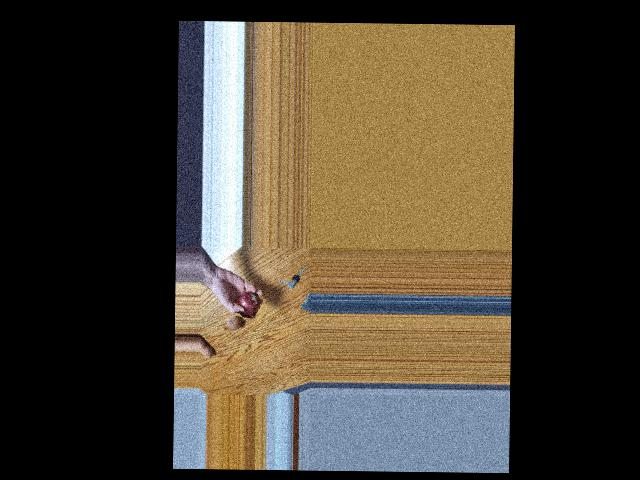onion: (238, 292, 259, 314)
